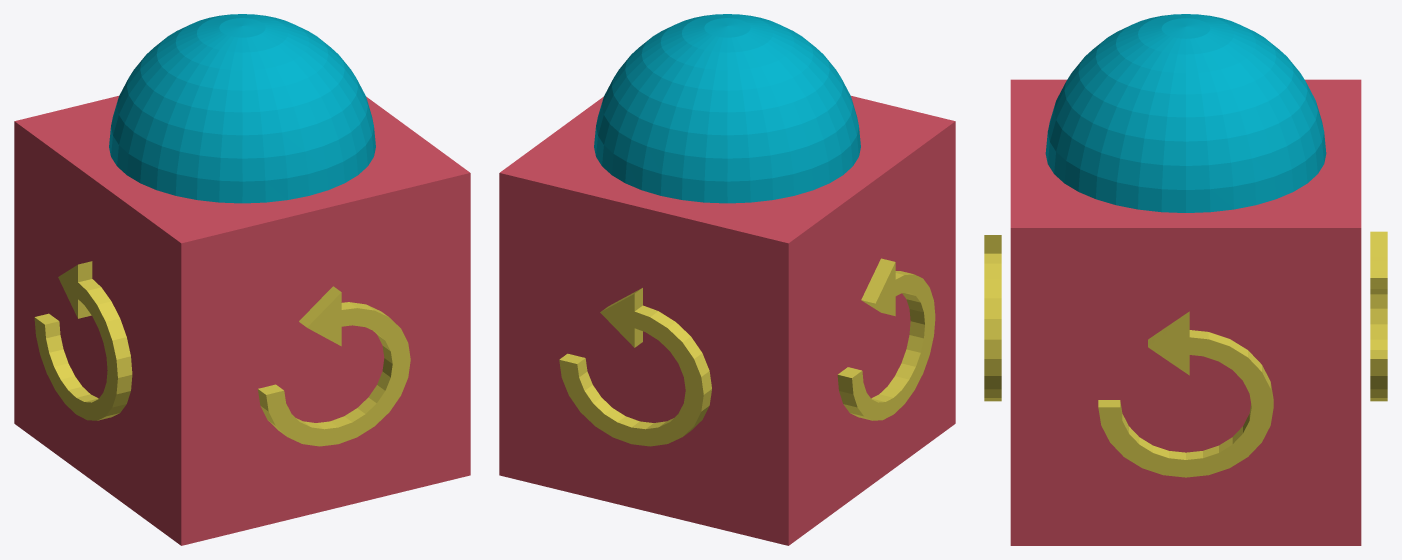
Rendered from reset.glb.
3 views of the same model, side by side, from view 1: azimuth 30°, elevation 25°; view 2: azimuth 150°, elevation 25°; view 3: azimuth 270°, elevation 25° (orthographic). The views are drawn at different scales.
Visible parts, largest first — view 1: Mesh_Mesh_head_geo.001_lambert2SG.001; view 2: Mesh_Mesh_head_geo.001_lambert2SG.001; view 3: Mesh_Mesh_head_geo.001_lambert2SG.001.
Boxes of the visible parts, box(x1,y1,x2,y2) form: Mesh_Mesh_head_geo.001_lambert2SG.001: box(14, 14, 470, 545); Mesh_Mesh_head_geo.001_lambert2SG.001: box(499, 14, 955, 545); Mesh_Mesh_head_geo.001_lambert2SG.001: box(984, 14, 1387, 545).
Bounding box in the file's own units: 23 × 28 × 23.
